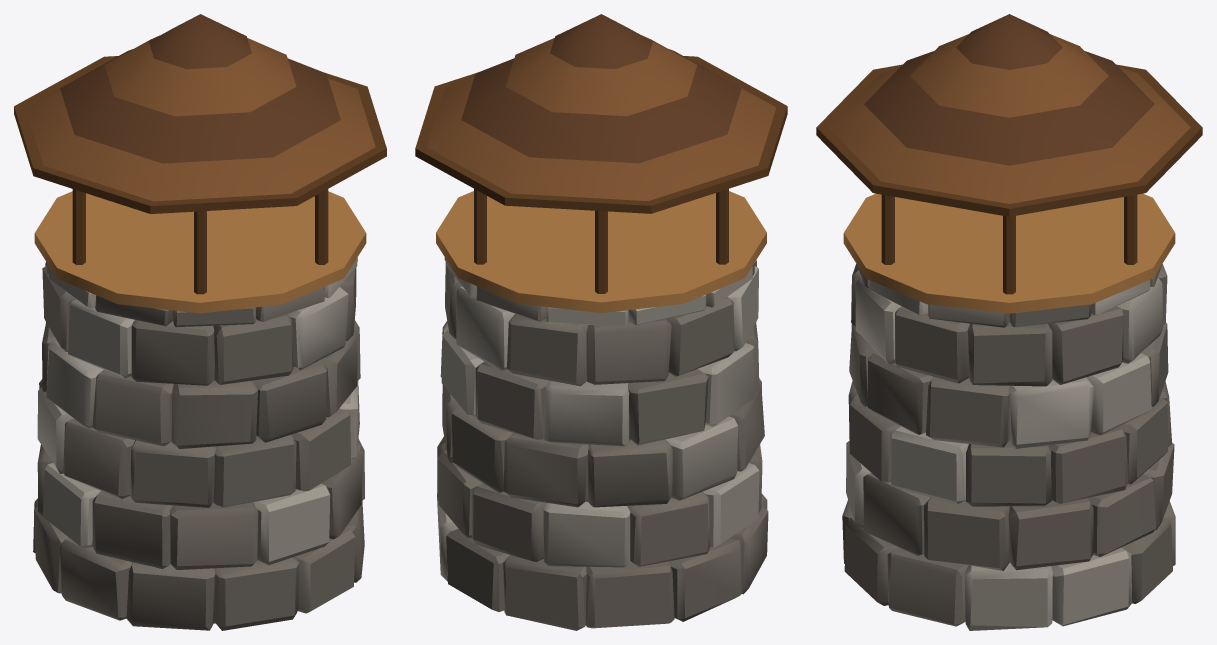
File: naroznik_etap3.glb
The picture shows the model from 3 angles, left to right: view 1: azimuth 30°, elevation 25°; view 2: azimuth 150°, elevation 25°; view 3: azimuth 270°, elevation 25°; orthographic projection.
Visible parts, largest first — view 1: naroznik_etap3; view 2: naroznik_etap3; view 3: naroznik_etap3.
Boxes of the visible parts, x1=… form: naroznik_etap3: x1=14, y1=14, x2=386, y2=630; naroznik_etap3: x1=415, y1=14, x2=787, y2=630; naroznik_etap3: x1=816, y1=14, x2=1202, y2=630.
Bounding box in the file's own units: 5.24 × 8.25 × 5.24.
